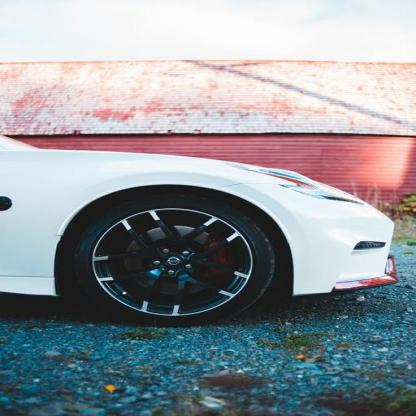Tire: (64, 193, 278, 328)
